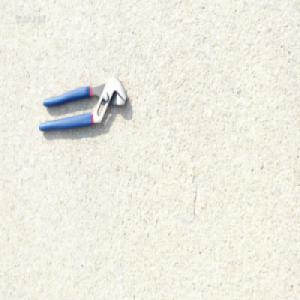Pliers: (37, 73, 127, 133)
